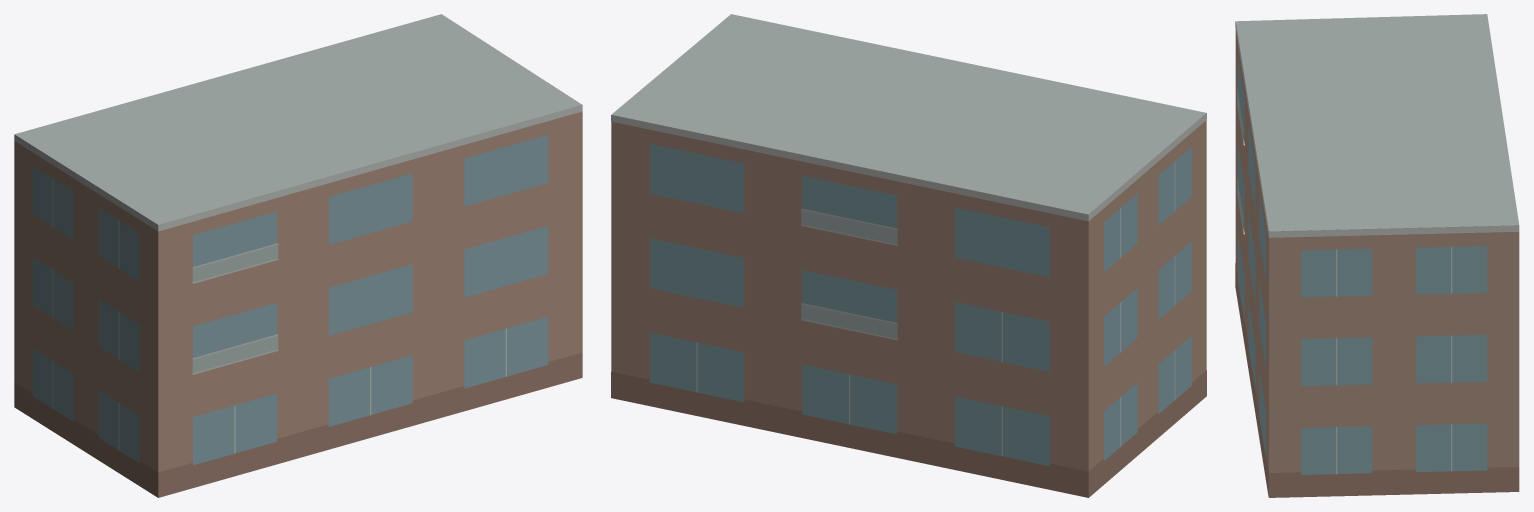
File: survey-upis-32723450.glb
3 renders of one model, left to right at view 1: azimuth 30°, elevation 25°; view 2: azimuth 150°, elevation 25°; view 3: azimuth 270°, elevation 25°, orthographic. The views are drawn at different scales.
Parts seen in each view (by area): view 1: survey-upis-32723450.tmp; view 2: survey-upis-32723450.tmp; view 3: survey-upis-32723450.tmp.
Part boxes in pixels (bbox=[...]): survey-upis-32723450.tmp: bbox=[14, 14, 582, 497]; survey-upis-32723450.tmp: bbox=[611, 14, 1206, 497]; survey-upis-32723450.tmp: bbox=[1235, 14, 1519, 497].
Size of the model in its own units: 17.68 by 10.1 by 9.76.
